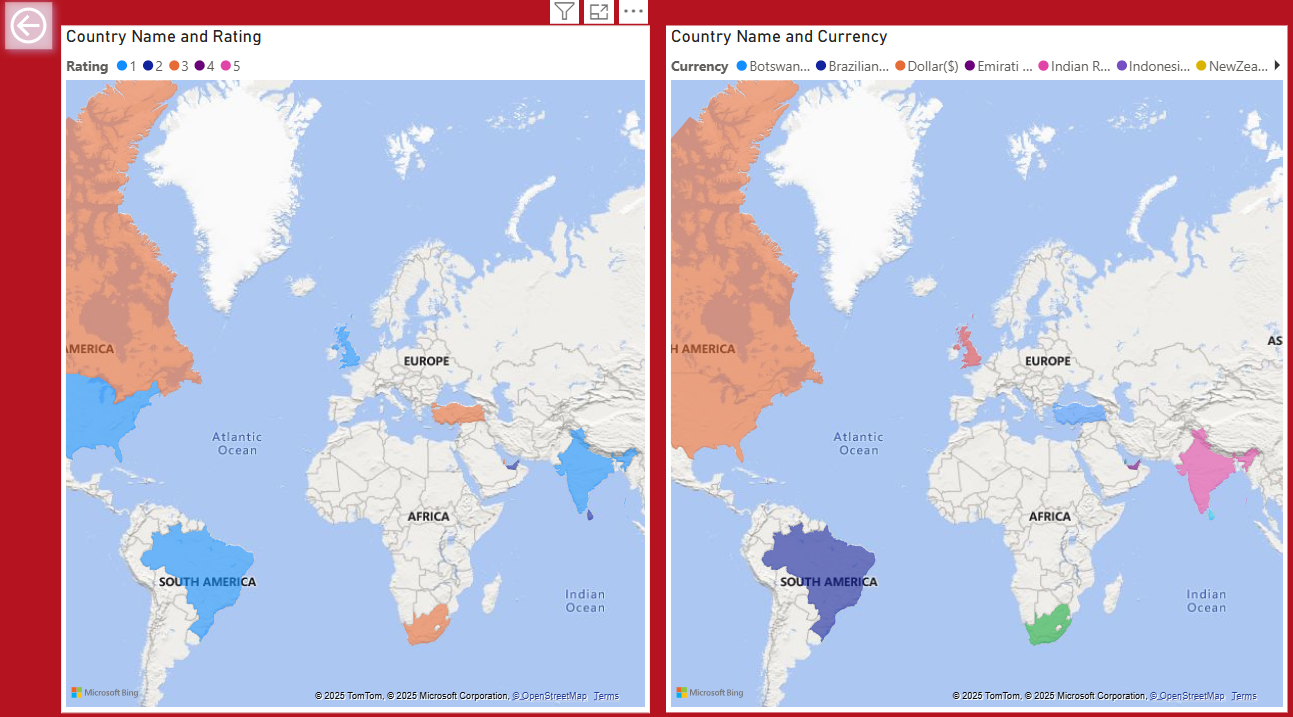

The page's visual inventory and layout, read from the dashboard file:
{"tool":"powerbi","page":{"name":"Map Overview","canvas":[1280,720],"ordinal":2},"visuals":[{"type":"filledMap","fields":{"Category":["Restaurants.Countryname"],"Series":["Restaurants.Rating"]},"box":[64,32,576,672],"z":0},{"type":"actionButton","box":[0,0,64,64],"z":1000},{"type":"filledMap","fields":{"Category":["Restaurants.Countryname"],"Series":["Restaurants.Currency"]},"box":[656,32,608,672],"z":2000}]}

Visuals, with their boxes in screenshot pixels (x1, y1, x2, y2):
filledMap - Restaurants.Countryname x Restaurants.Rating: {"left": 62, "top": 22, "right": 648, "bottom": 707}
actionButton: {"left": 0, "top": 0, "right": 62, "bottom": 55}
filledMap - Restaurants.Countryname x Restaurants.Currency: {"left": 665, "top": 22, "right": 1284, "bottom": 707}
